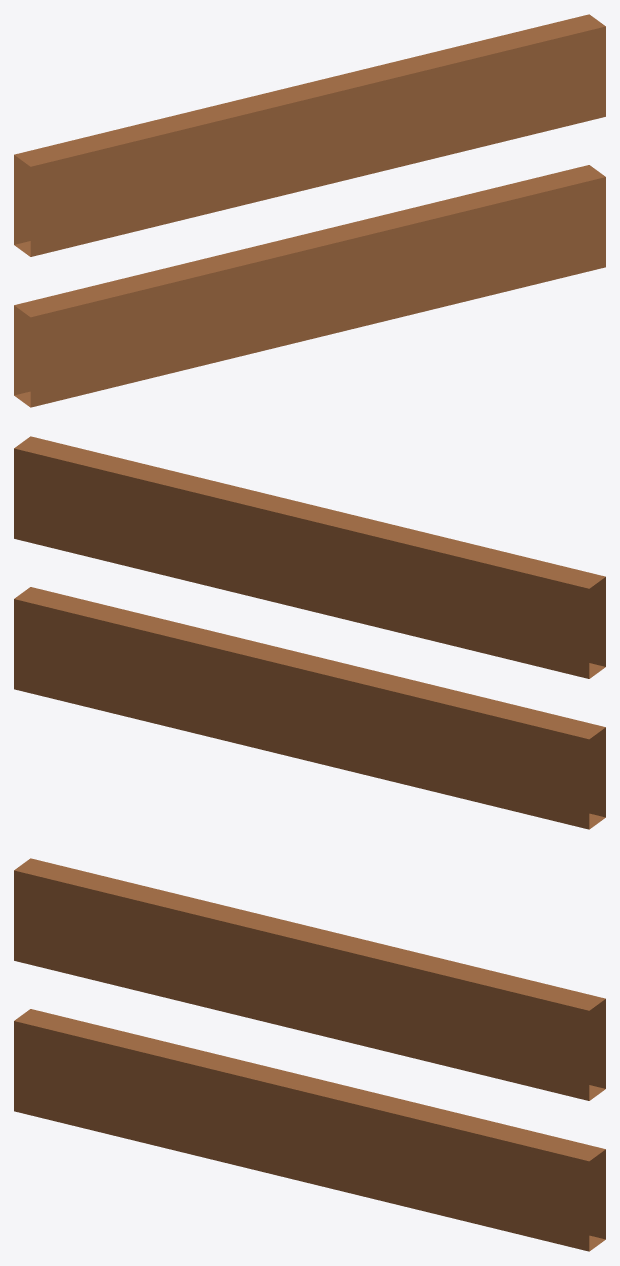
File: Prop_Decorative_Fence_Railing.obj
The picture shows the model from 3 angles, top to bottom: view 1: azimuth 30°, elevation 25°; view 2: azimuth 150°, elevation 25°; view 3: azimuth 330°, elevation 25°; orthographic projection.
Visible parts, largest first — view 1: Fence_Rail; view 2: Fence_Rail; view 3: Fence_Rail.
Part boxes in pixels (left/top/right/bottom): Fence_Rail: left=14, top=14, right=605, bottom=407; Fence_Rail: left=14, top=436, right=605, bottom=829; Fence_Rail: left=14, top=858, right=605, bottom=1251.
Size of the model in its own units: 1 by 0.4 by 0.05.
